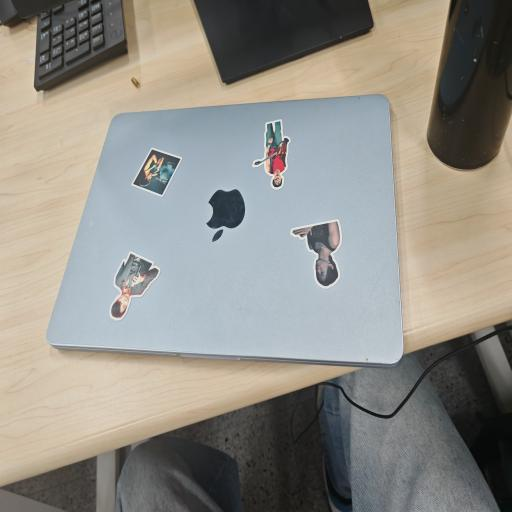laptop: (47, 95, 403, 365)
